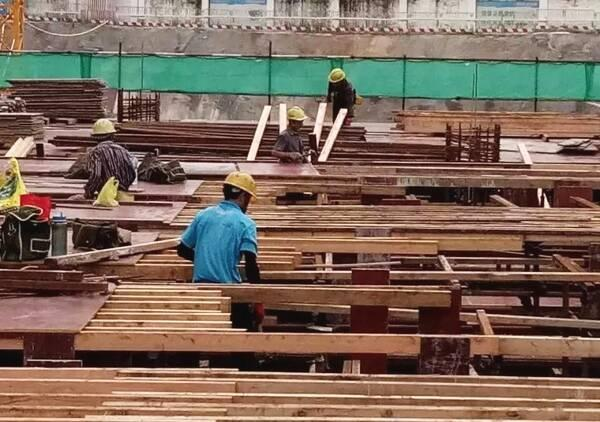helmet: (223, 171, 258, 199), (89, 115, 116, 136), (286, 105, 308, 121), (327, 66, 347, 83)
no_wear: (193, 205, 248, 284), (88, 144, 131, 190)
